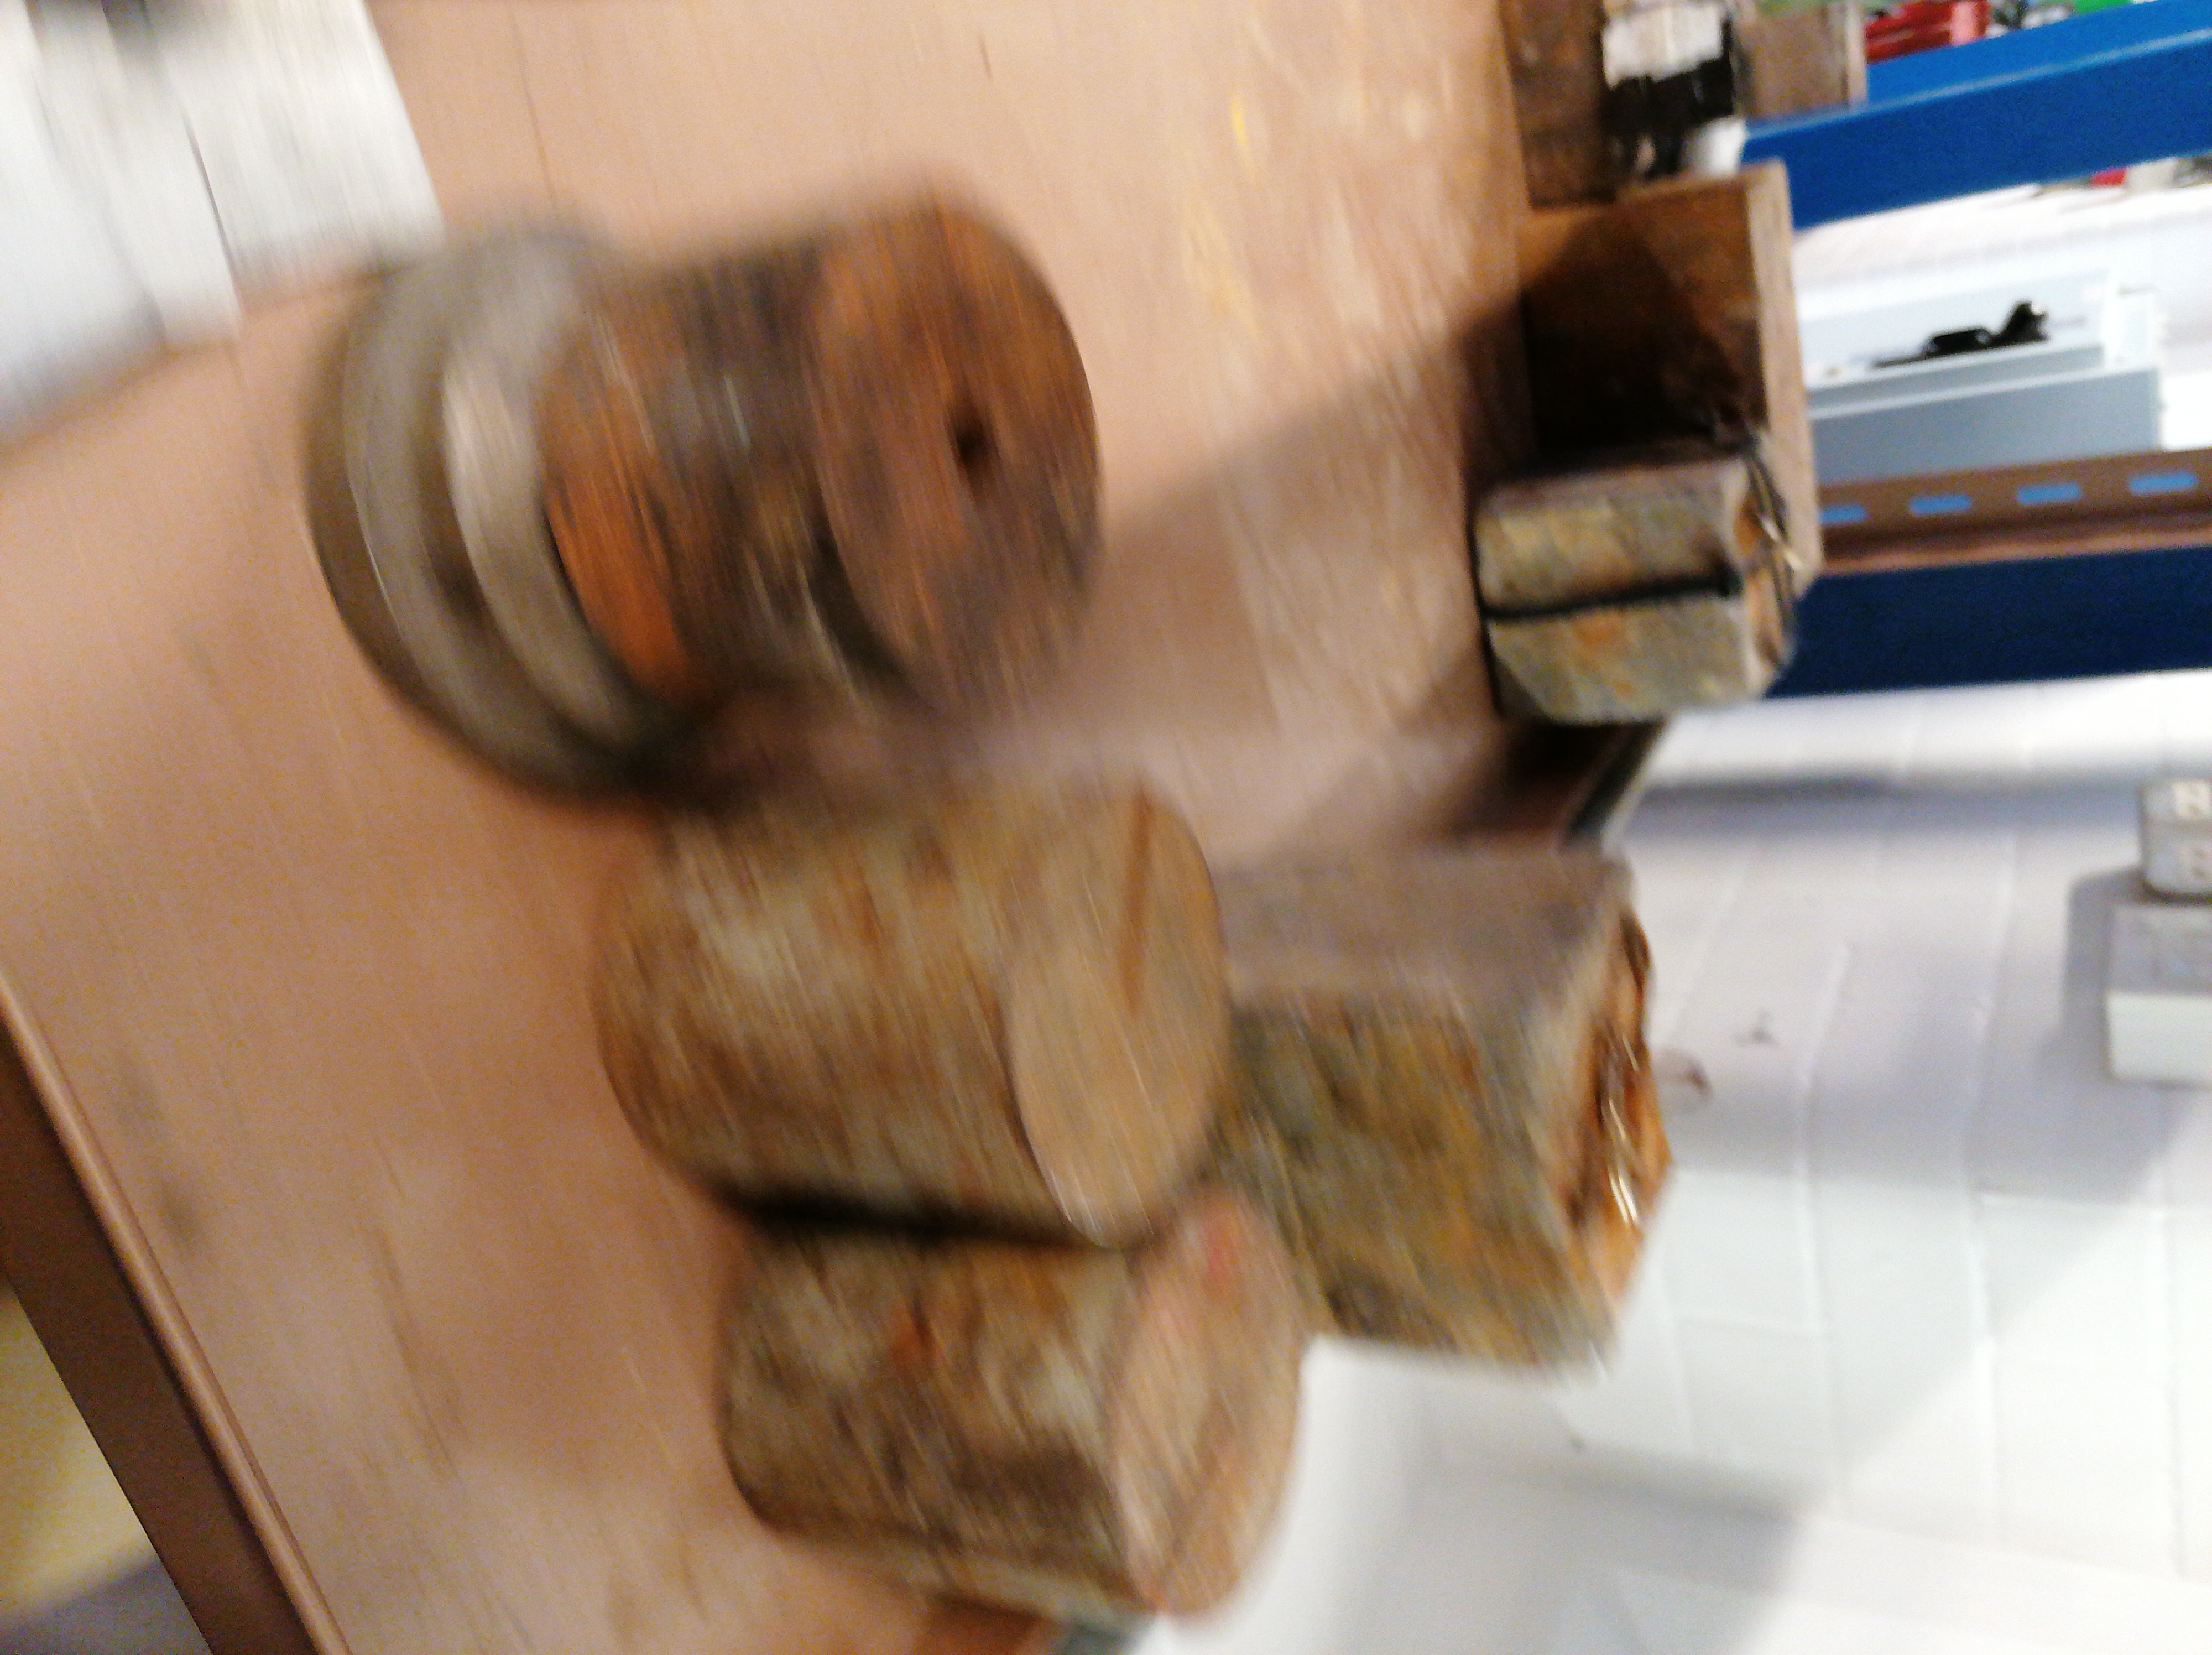lead_block: (304, 202, 1142, 789), (594, 779, 1229, 1248), (702, 1194, 1301, 1610), (1234, 859, 1680, 1384), (1607, 156, 1831, 586), (1467, 445, 1798, 728), (1491, 0, 1604, 210), (1731, 3, 1871, 122)
